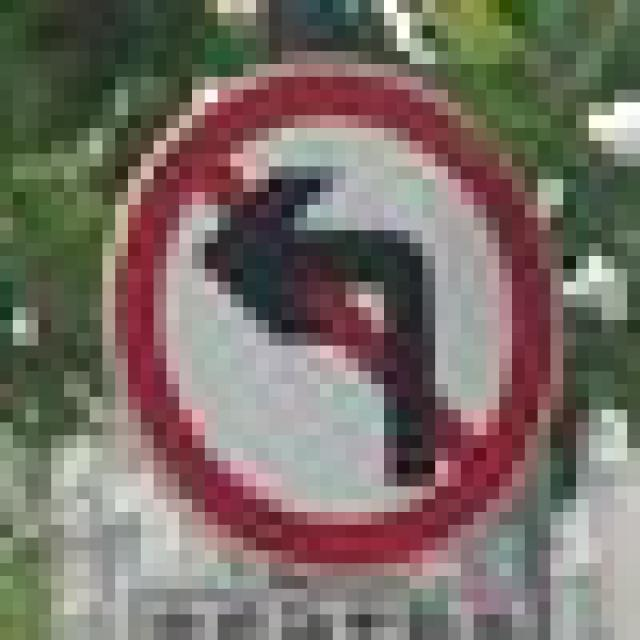do_not_turn_left: (90, 51, 550, 563)
